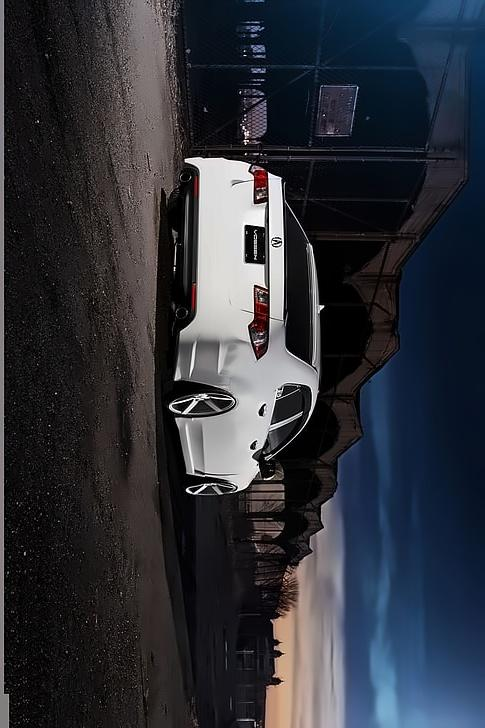Car boot: (226, 168, 284, 324)
Driver-s door - -F-R-: (168, 410, 315, 477)
Fender - -F-R-: (194, 464, 263, 492)
Fender - -R-R-: (204, 344, 315, 429)
Passenger-s door - -R-R-: (174, 379, 322, 435)
Rear bumper: (172, 153, 249, 395)
Rear light - -L-: (246, 165, 268, 204)
Rear light - -R-: (247, 284, 271, 360)
Side bumper - -R-: (176, 414, 216, 483)
Side mirror - -R-: (255, 454, 276, 482)
